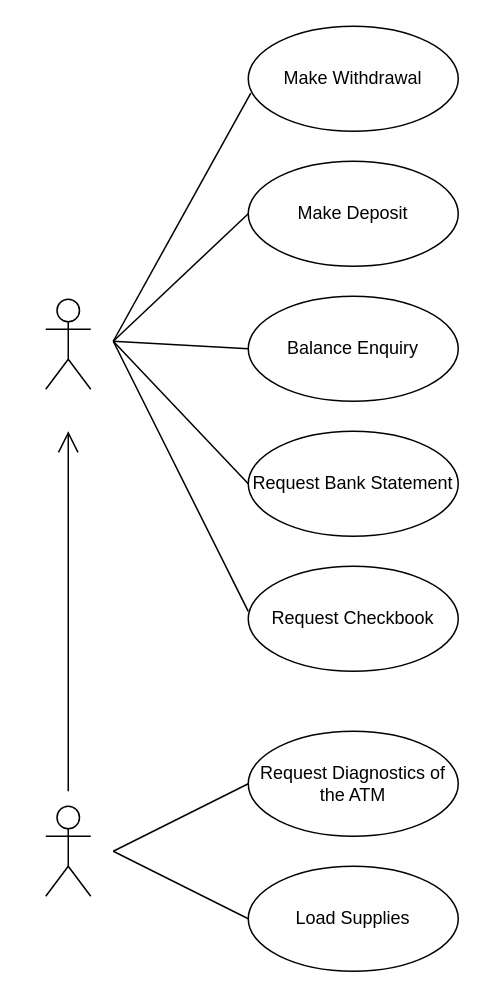
Some shapes in this 485 by 998 pixel diagram are drawn without their labels. Each missing label, with the centre of its shape:
Customer: pixel 67 343
Maintainer: pixel 67 850
